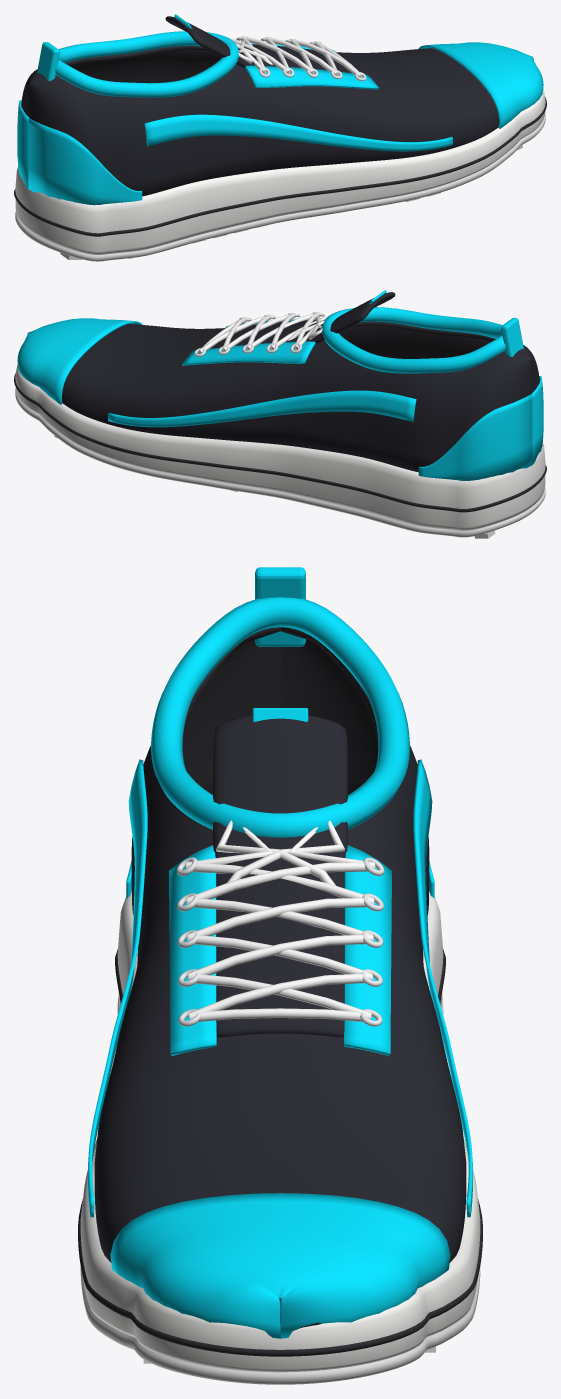
Rendered from sneaker.glb.
The picture shows the model from 3 angles, top to bottom: view 1: azimuth 30°, elevation 25°; view 2: azimuth 150°, elevation 25°; view 3: azimuth 270°, elevation 25°; orthographic projection. The views are drawn at different scales.
Parts seen in each view (by area): view 1: Upper, Midsole, HeelCounter_-1, Kerah.001, GarisAngin_-1, ToeCap, Outsole, Alur.001, Eyestay_-1, Lidah, HeelCounter_1, TabTumit (+3 smaller); view 2: Upper, Midsole, HeelCounter_1, Kerah.001, GarisAngin_1, ToeCap, Outsole, Alur.001, Eyestay_1, Lidah, HeelCounter_-1, TabTumit (+2 smaller); view 3: Upper, ToeCap, Lidah, Midsole, Kerah.001, Eyestay_1, Eyestay_-1, Outsole, GarisAngin_1, GarisAngin_-1, Alur.001, TabTumit (+11 smaller).
Part boxes in pixels (x1,y1,x2,y2): Upper: [21, 46, 498, 196]; Midsole: [15, 89, 545, 254]; HeelCounter_-1: [28, 118, 142, 205]; Kerah.001: [55, 31, 239, 97]; GarisAngin_-1: [144, 114, 452, 151]; ToeCap: [418, 42, 543, 128]; Outsole: [15, 112, 545, 261]; Alur.001: [14, 97, 546, 236]; Eyestay_-1: [245, 65, 378, 89]; Lidah: [165, 16, 351, 72]; HeelCounter_1: [17, 100, 29, 188]; TabTumit: [37, 42, 59, 81]; Upper: [62, 321, 539, 472]; Midsole: [15, 365, 545, 530]; HeelCounter_1: [418, 394, 532, 480]; Kerah.001: [321, 307, 505, 373]; GarisAngin_1: [108, 390, 416, 427]; ToeCap: [17, 318, 142, 404]; Outsole: [15, 388, 545, 537]; Alur.001: [14, 373, 546, 512]; Eyestay_1: [182, 341, 315, 365]; Lidah: [210, 292, 395, 348]; HeelCounter_-1: [531, 376, 543, 464]; TabTumit: [501, 317, 523, 356]; Upper: [94, 627, 466, 1327]; ToeCap: [110, 1193, 450, 1338]; Lidah: [213, 715, 347, 1037]; Midsole: [80, 891, 480, 1372]; Kerah.001: [151, 597, 409, 837]; Eyestay_1: [344, 845, 391, 1055]; Eyestay_-1: [169, 845, 216, 1055]; Outsole: [80, 997, 480, 1384]; GarisAngin_1: [413, 759, 472, 1217]; GarisAngin_-1: [88, 759, 147, 1217]; Alur.001: [78, 949, 482, 1356]; TabTumit: [255, 567, 305, 646].
Bounding box in the file's own units: 2.52 × 0.9468 × 0.8737.
